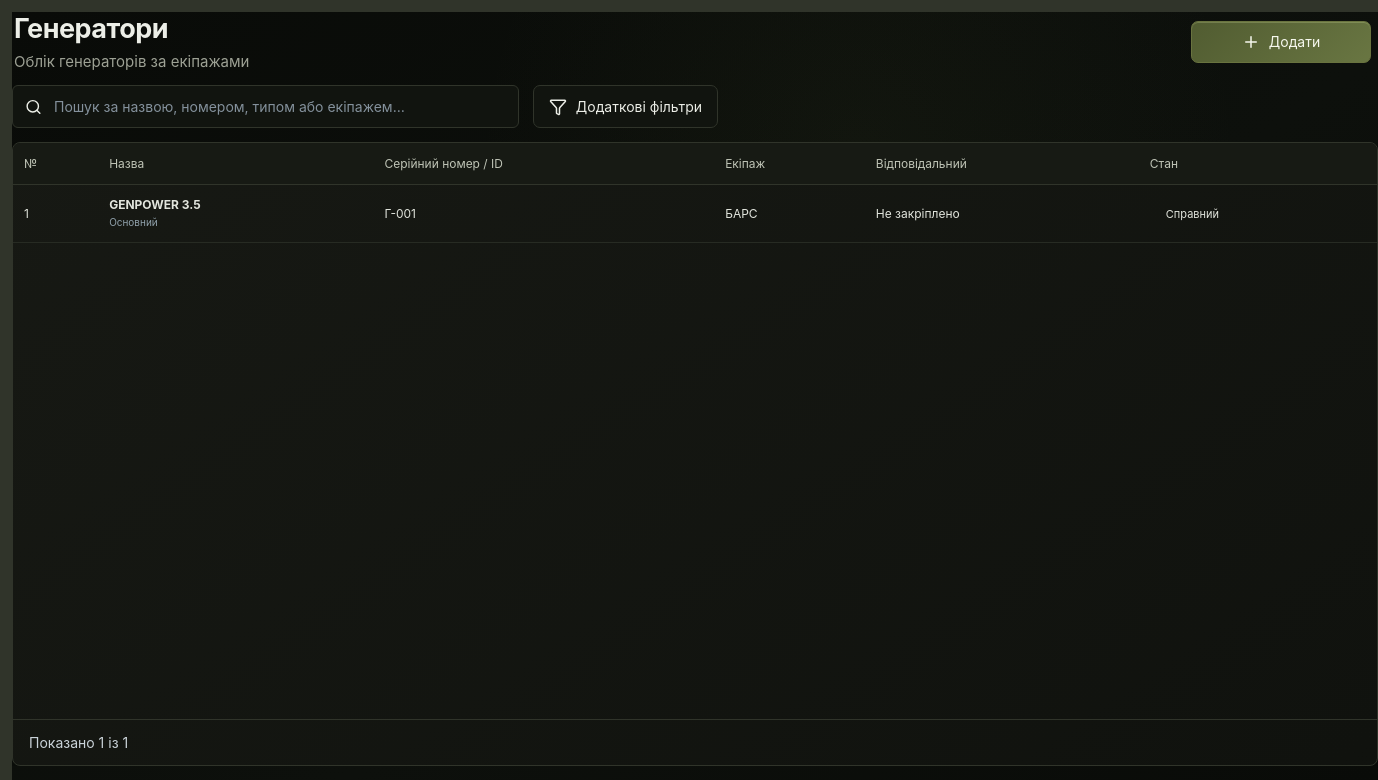
EquipmentPage › opens a shared details panel by clicking an equipment row
This screenshot has width=1378, height=780.
Click the text "GENPOWER 3.5" at (155, 204), box [109,197,201,212]
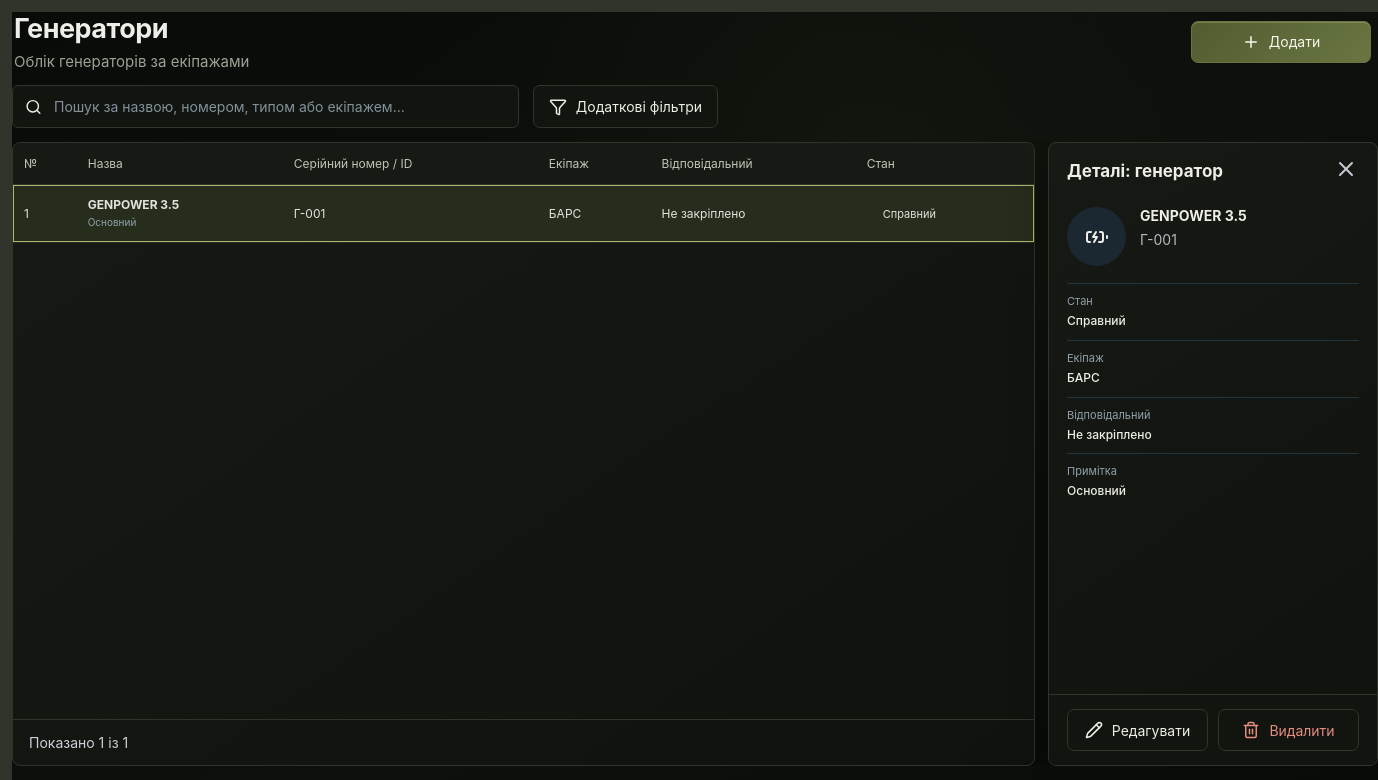
Expected: the text "БАРС" is shown 2 times, [538,184,651,242]; [1067,370,1100,385]
Now the heading "Деталі: генератор" is shown, box [1067,161,1223,181]
